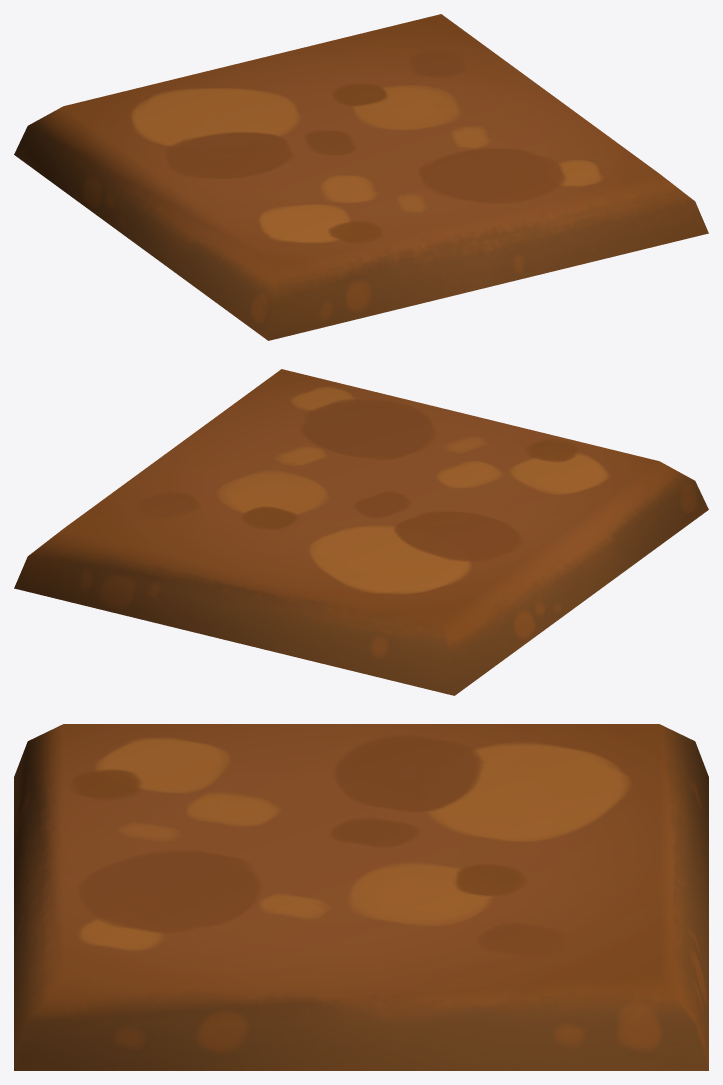
File: soil_tilled.fbx
3 views of the same model, one above another, from view 1: azimuth 30°, elevation 25°; view 2: azimuth 150°, elevation 25°; view 3: azimuth 270°, elevation 25° (orthographic). The views are drawn at different scales.
Visible parts, largest first — view 1: tilled_soil; view 2: tilled_soil; view 3: tilled_soil.
Boxes of the visible parts, x1=… form: tilled_soil: x1=14, y1=14, x2=708, y2=340; tilled_soil: x1=14, y1=369, x2=708, y2=695; tilled_soil: x1=14, y1=724, x2=708, y2=1070.
Bounding box in the file's own units: 2.5 × 0.2934 × 2.5.
Materials: 1 (1 with a texture image).
